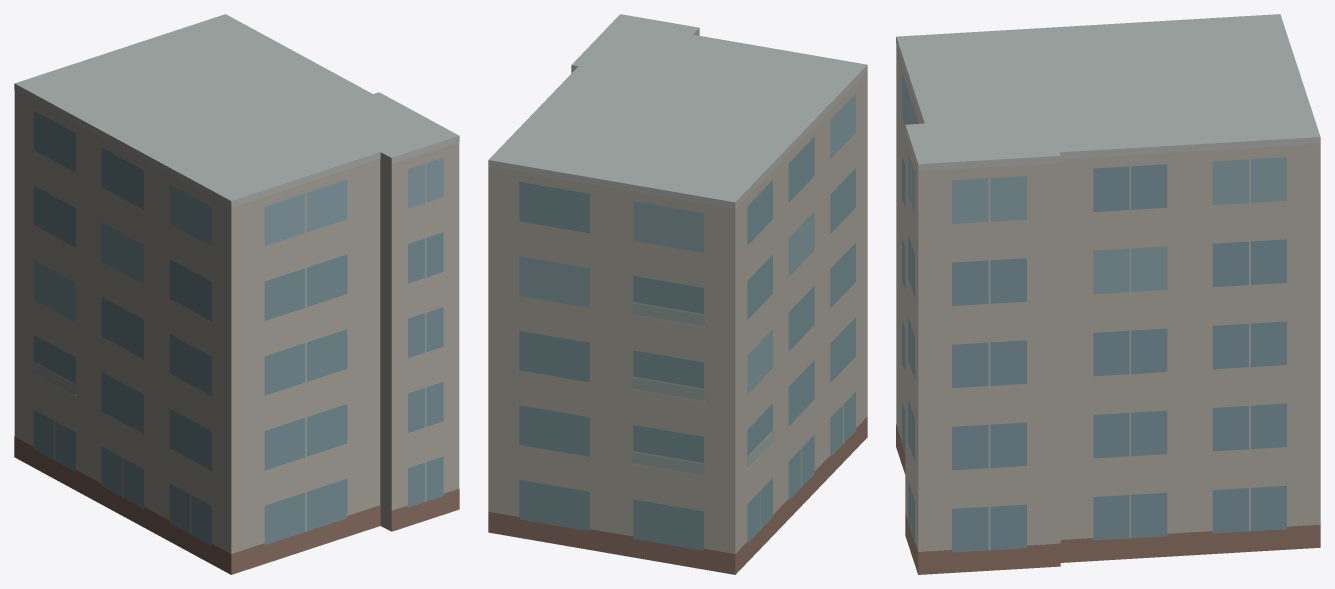
The model's file is survey-upis-32737330.glb.
The picture shows the model from 3 angles, left to right: view 1: azimuth 30°, elevation 25°; view 2: azimuth 150°, elevation 25°; view 3: azimuth 270°, elevation 25°; orthographic projection. The views are drawn at different scales.
Parts seen in each view (by area): view 1: survey-upis-32737330.tmp; view 2: survey-upis-32737330.tmp; view 3: survey-upis-32737330.tmp.
Boxes of the visible parts, x1=… form: survey-upis-32737330.tmp: x1=14, y1=14, x2=459, y2=574; survey-upis-32737330.tmp: x1=488, y1=14, x2=867, y2=574; survey-upis-32737330.tmp: x1=896, y1=14, x2=1320, y2=574.
Size of the model in its own units: 11.11 by 14.15 by 13.26.
